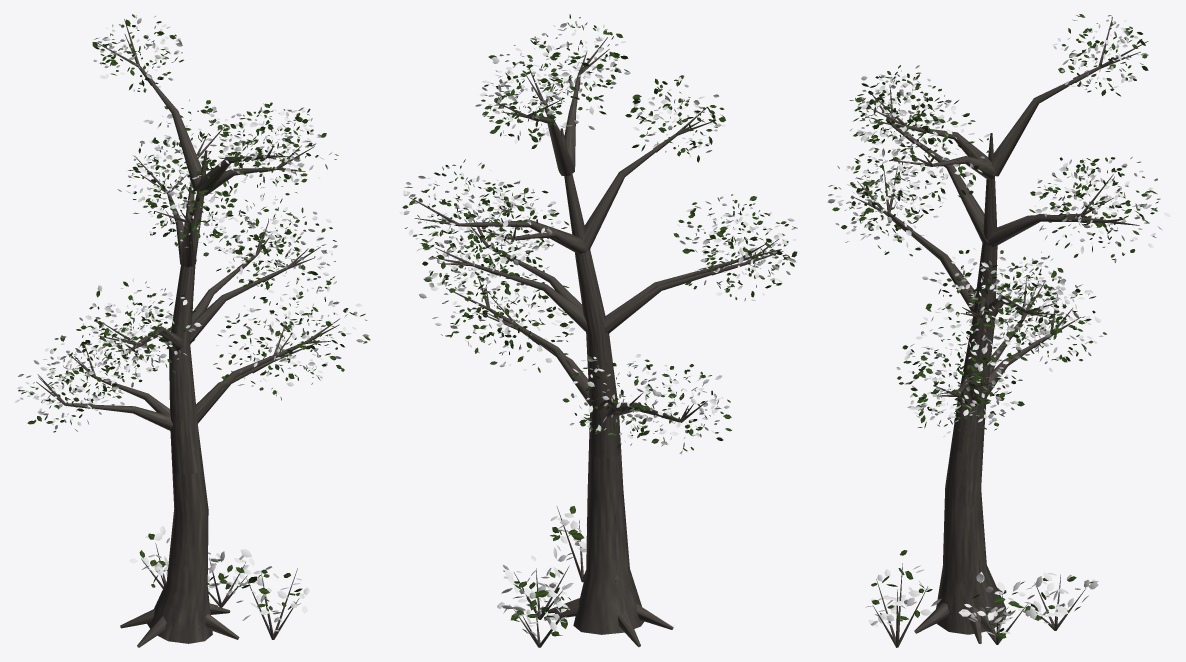
Rendered from SM_Env_Tile_p2_m4.fbx.
3 views of the same model, side by side, from view 1: azimuth 30°, elevation 25°; view 2: azimuth 150°, elevation 25°; view 3: azimuth 270°, elevation 25° (orthographic). The views are drawn at different scales.
Parts seen in each view (by area): view 1: SM_Env_Tile_p2_m4; view 2: SM_Env_Tile_p2_m4; view 3: SM_Env_Tile_p2_m4.
Boxes of the visible parts, x1,y1,x2,y2 form: SM_Env_Tile_p2_m4: (14, 14, 370, 647); SM_Env_Tile_p2_m4: (399, 14, 797, 647); SM_Env_Tile_p2_m4: (828, 14, 1171, 647).
Bounding box in the file's own units: 899 × 779 × 1525.
Materials: 5 (2 with a texture image).
